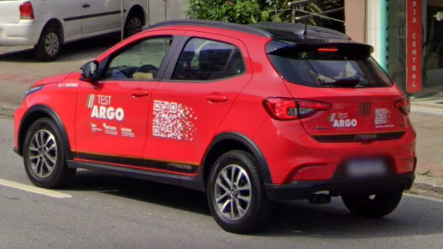car: (12, 18, 418, 231)
